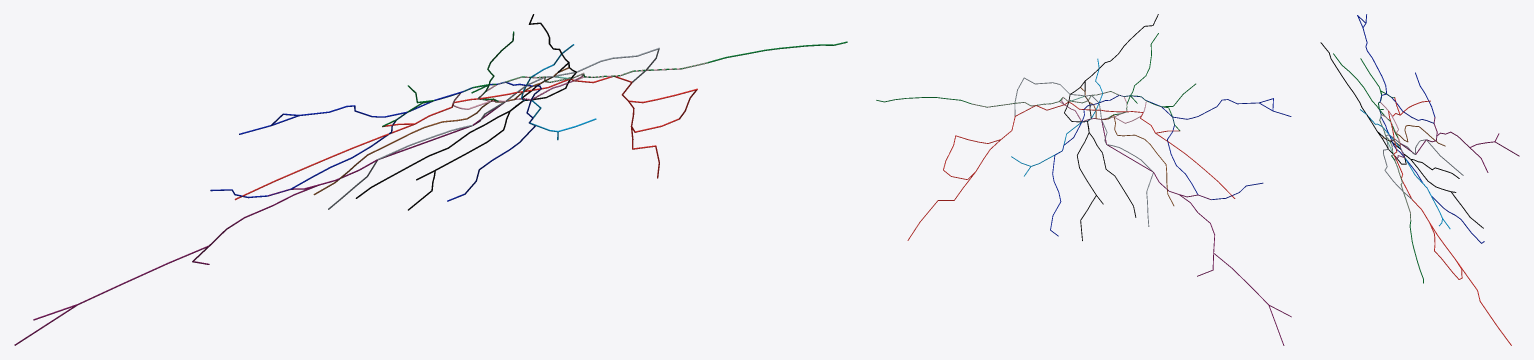
File: TubeLines_ECEF.DAE
The picture shows the model from 3 angles, left to right: view 1: azimuth 30°, elevation 25°; view 2: azimuth 150°, elevation 25°; view 3: azimuth 270°, elevation 25°; orthographic projection. The views are drawn at different scales.
Parts seen in each view (by area): view 1: Line_C_EASTBOUND, Line_P_EASTBOUND, Line_M_EASTBOUND, Line_N_NORTHBOUND, Line_D_EASTBOUND, Line_J_NORTHBOUND, Line_H_CLOCKWISE; view 2: Line_C_EASTBOUND, Line_P_EASTBOUND, Line_N_NORTHBOUND, Line_D_EASTBOUND, Line_M_EASTBOUND, Line_J_NORTHBOUND, Line_H_CLOCKWISE; view 3: Line_C_EASTBOUND, Line_P_EASTBOUND, Line_N_NORTHBOUND, Line_D_EASTBOUND, Line_M_EASTBOUND, Line_J_NORTHBOUND, Line_H_CLOCKWISE, Line_V_NORTHBOUND.
Boxes of the visible parts, x1=… form: Line_C_EASTBOUND: x1=234, y1=76, x2=697, y2=200; Line_P_EASTBOUND: x1=210, y1=81, x2=541, y2=201; Line_M_EASTBOUND: x1=14, y1=77, x2=580, y2=345; Line_N_NORTHBOUND: x1=355, y1=14, x2=576, y2=210; Line_D_EASTBOUND: x1=382, y1=31, x2=847, y2=126; Line_J_NORTHBOUND: x1=328, y1=47, x2=659, y2=209; Line_H_CLOCKWISE: x1=452, y1=62, x2=707, y2=109; Line_C_EASTBOUND: x1=907, y1=101, x2=1235, y2=240; Line_P_EASTBOUND: x1=1050, y1=95, x2=1291, y2=236; Line_N_NORTHBOUND: x1=1064, y1=14, x2=1158, y2=240; Line_D_EASTBOUND: x1=876, y1=33, x2=1195, y2=130; Line_M_EASTBOUND: x1=1062, y1=101, x2=1291, y2=345; Line_J_NORTHBOUND: x1=1014, y1=77, x2=1153, y2=226; Line_H_CLOCKWISE: x1=972, y1=91, x2=1146, y2=123; Line_C_EASTBOUND: x1=1388, y1=97, x2=1511, y2=345; Line_P_EASTBOUND: x1=1357, y1=14, x2=1484, y2=243; Line_N_NORTHBOUND: x1=1320, y1=42, x2=1483, y2=228; Line_D_EASTBOUND: x1=1333, y1=53, x2=1423, y2=283; Line_M_EASTBOUND: x1=1395, y1=117, x2=1519, y2=172; Line_J_NORTHBOUND: x1=1383, y1=134, x2=1463, y2=199; Line_H_CLOCKWISE: x1=1379, y1=102, x2=1410, y2=220; Line_V_NORTHBOUND: x1=1360, y1=109, x2=1450, y2=228.
Bounding box in the file's own units: 596 × 267 × 210.
